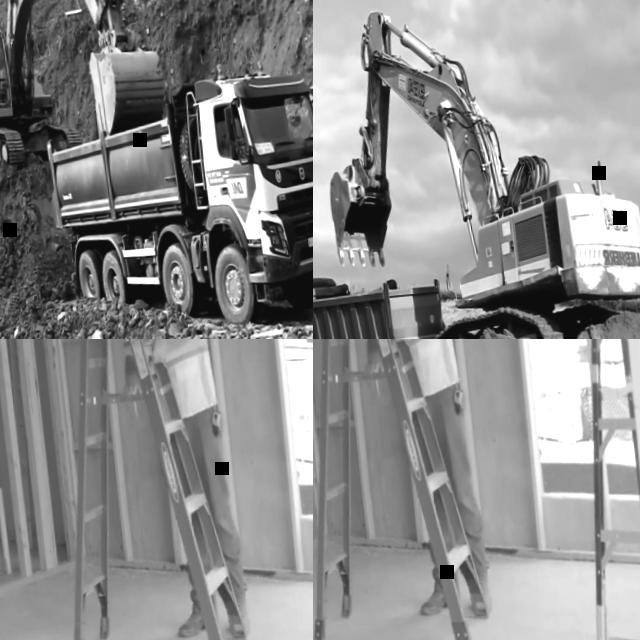NO-Safety Vest: (223, 130, 240, 146)
Person: (121, 339, 250, 640), (363, 339, 492, 622), (221, 114, 250, 151)
Safety Vest: (111, 339, 211, 375)
machinery: (313, 0, 640, 339), (35, 53, 313, 339), (0, 0, 171, 172), (313, 263, 448, 339)
